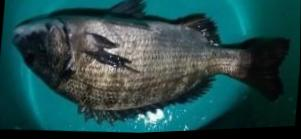fish: (12, 0, 291, 124)
